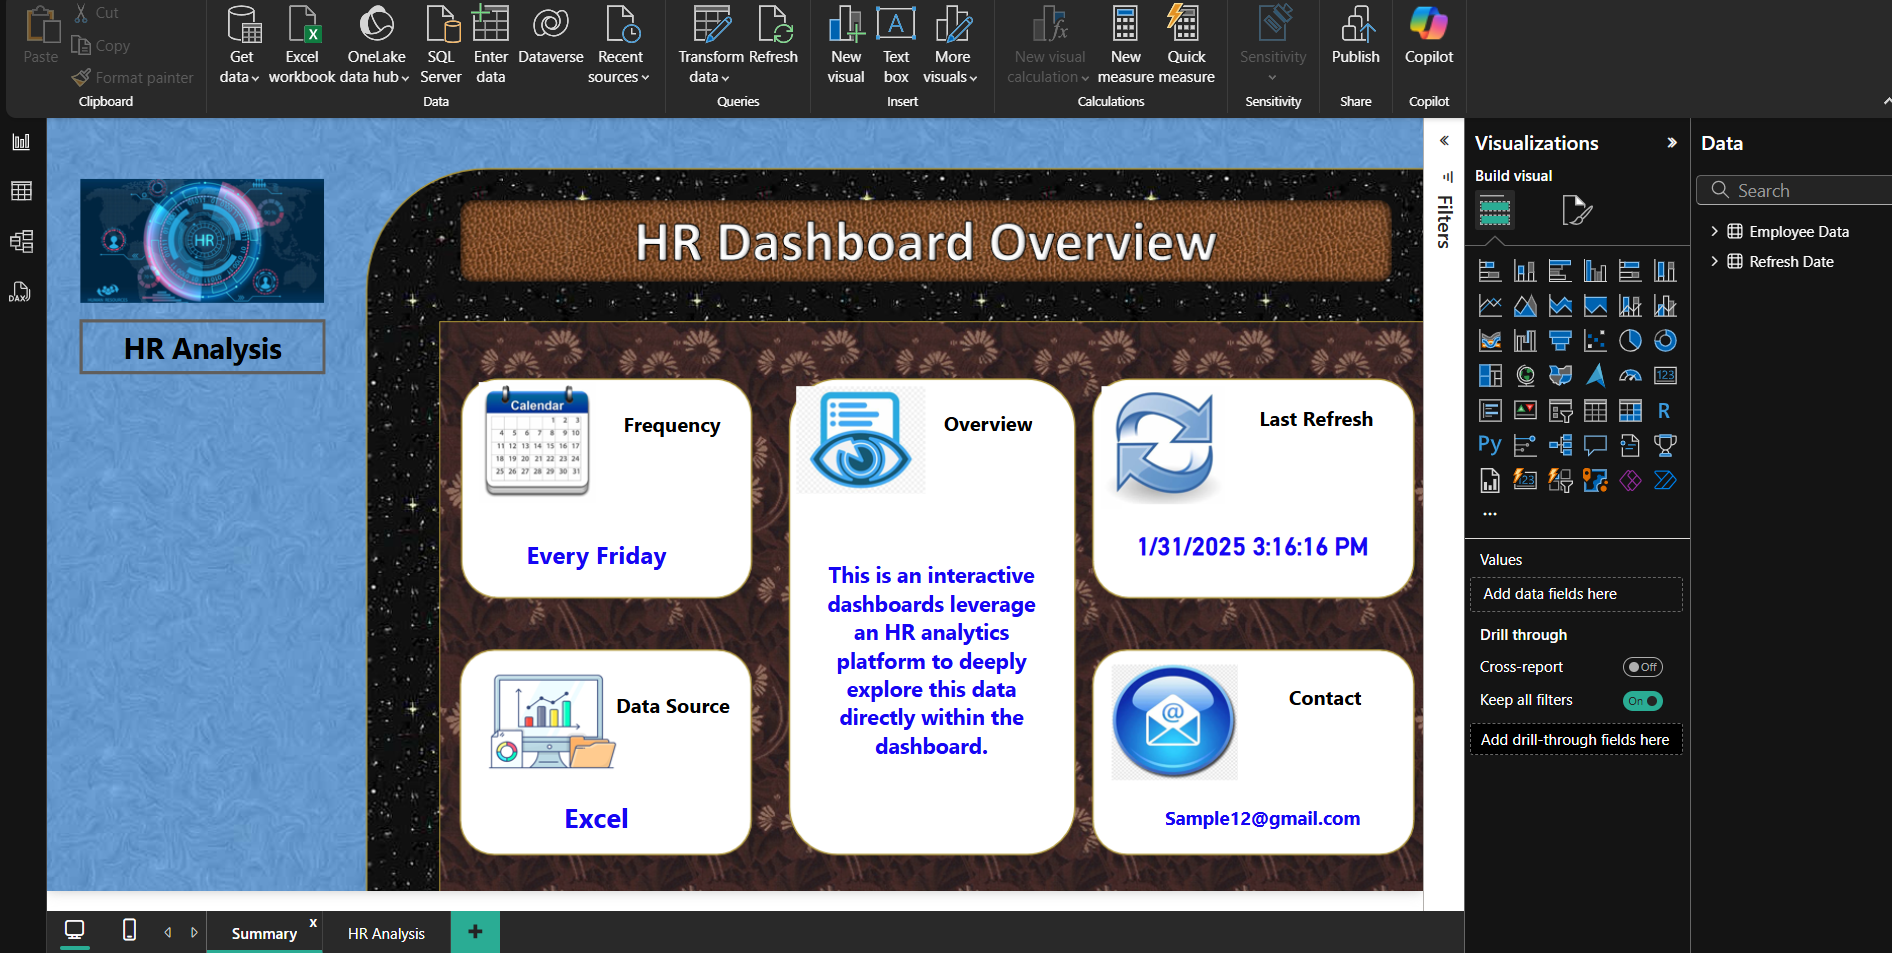

The dashboard page shown, as its layout file describes it:
{"tool":"powerbi","page":{"name":"Summary","canvas":[1280,720],"ordinal":0},"visuals":[{"type":"actionButton","box":[511.6,254.7,139.5,59.3],"z":0},{"type":"actionButton","box":[522.9,512.7,118,65.8],"z":1000},{"type":"actionButton","box":[804.7,264,141.9,39.5],"z":2000},{"type":"actionButton","box":[1100,254.7,161.6,48.8],"z":3000},{"type":"actionButton","box":[1116.3,512.8,145.3,51.2],"z":4000},{"type":"actionButton","box":[30.2,187.2,229.1,51.2],"z":5000},{"type":"card","fields":{"Values":["Min(Refresh Date.Refresh Date)"]},"box":[1000.4,359.5,242.7,78.3],"z":6000},{"type":"actionButton","box":[1000,630.2,261.6,39.5],"z":7000},{"type":"shape","box":[397,376.6,229.1,57.8],"z":8000},{"type":"shape","box":[397,620.4,229.1,59],"z":9000},{"type":"shape","box":[708.1,357,229.1,293],"z":10000}]}

Visuals, with their boxes on the page's 1280x720 design canvas (x1, y1, x2, y2). These are canvas units, not pixel positions in the 1892x953 screenshot, which may show the page scaled, cropped or inside an application window:
actionButton: box=[512, 255, 651, 314]
actionButton: box=[523, 513, 641, 578]
actionButton: box=[805, 264, 947, 304]
actionButton: box=[1100, 255, 1262, 304]
actionButton: box=[1116, 513, 1262, 564]
actionButton: box=[30, 187, 259, 238]
card - Min(Refresh Date.Refresh Date): box=[1000, 360, 1243, 438]
actionButton: box=[1000, 630, 1262, 670]
shape: box=[397, 377, 626, 434]
shape: box=[397, 620, 626, 679]
shape: box=[708, 357, 937, 650]
